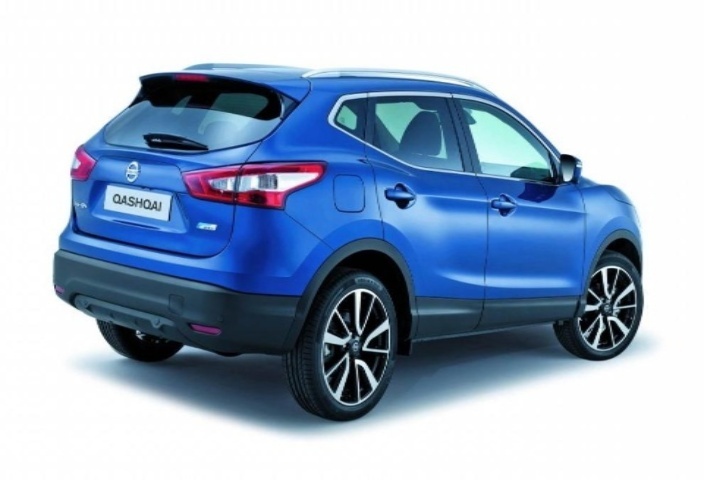camper: (60, 51, 645, 409)
